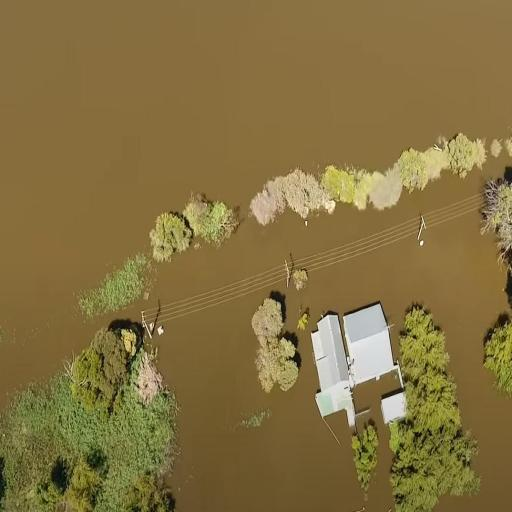flood: (0, 1, 512, 511)
house: (341, 297, 397, 383), (310, 312, 349, 398)
